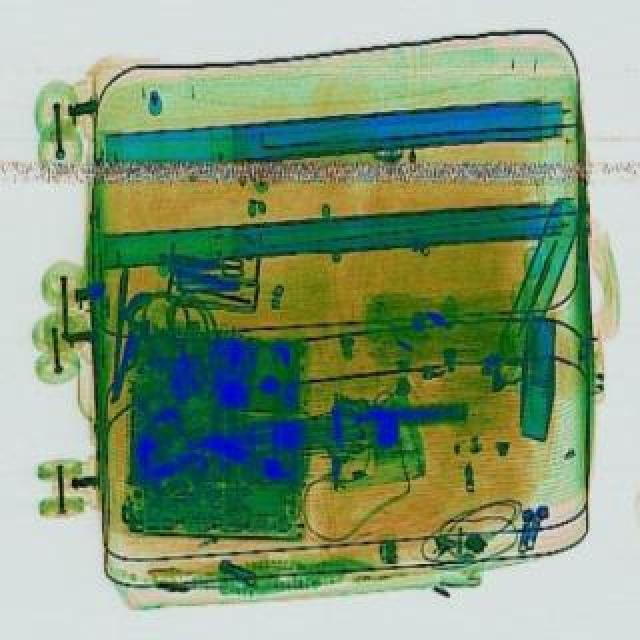pliers: (194, 250, 246, 274)
